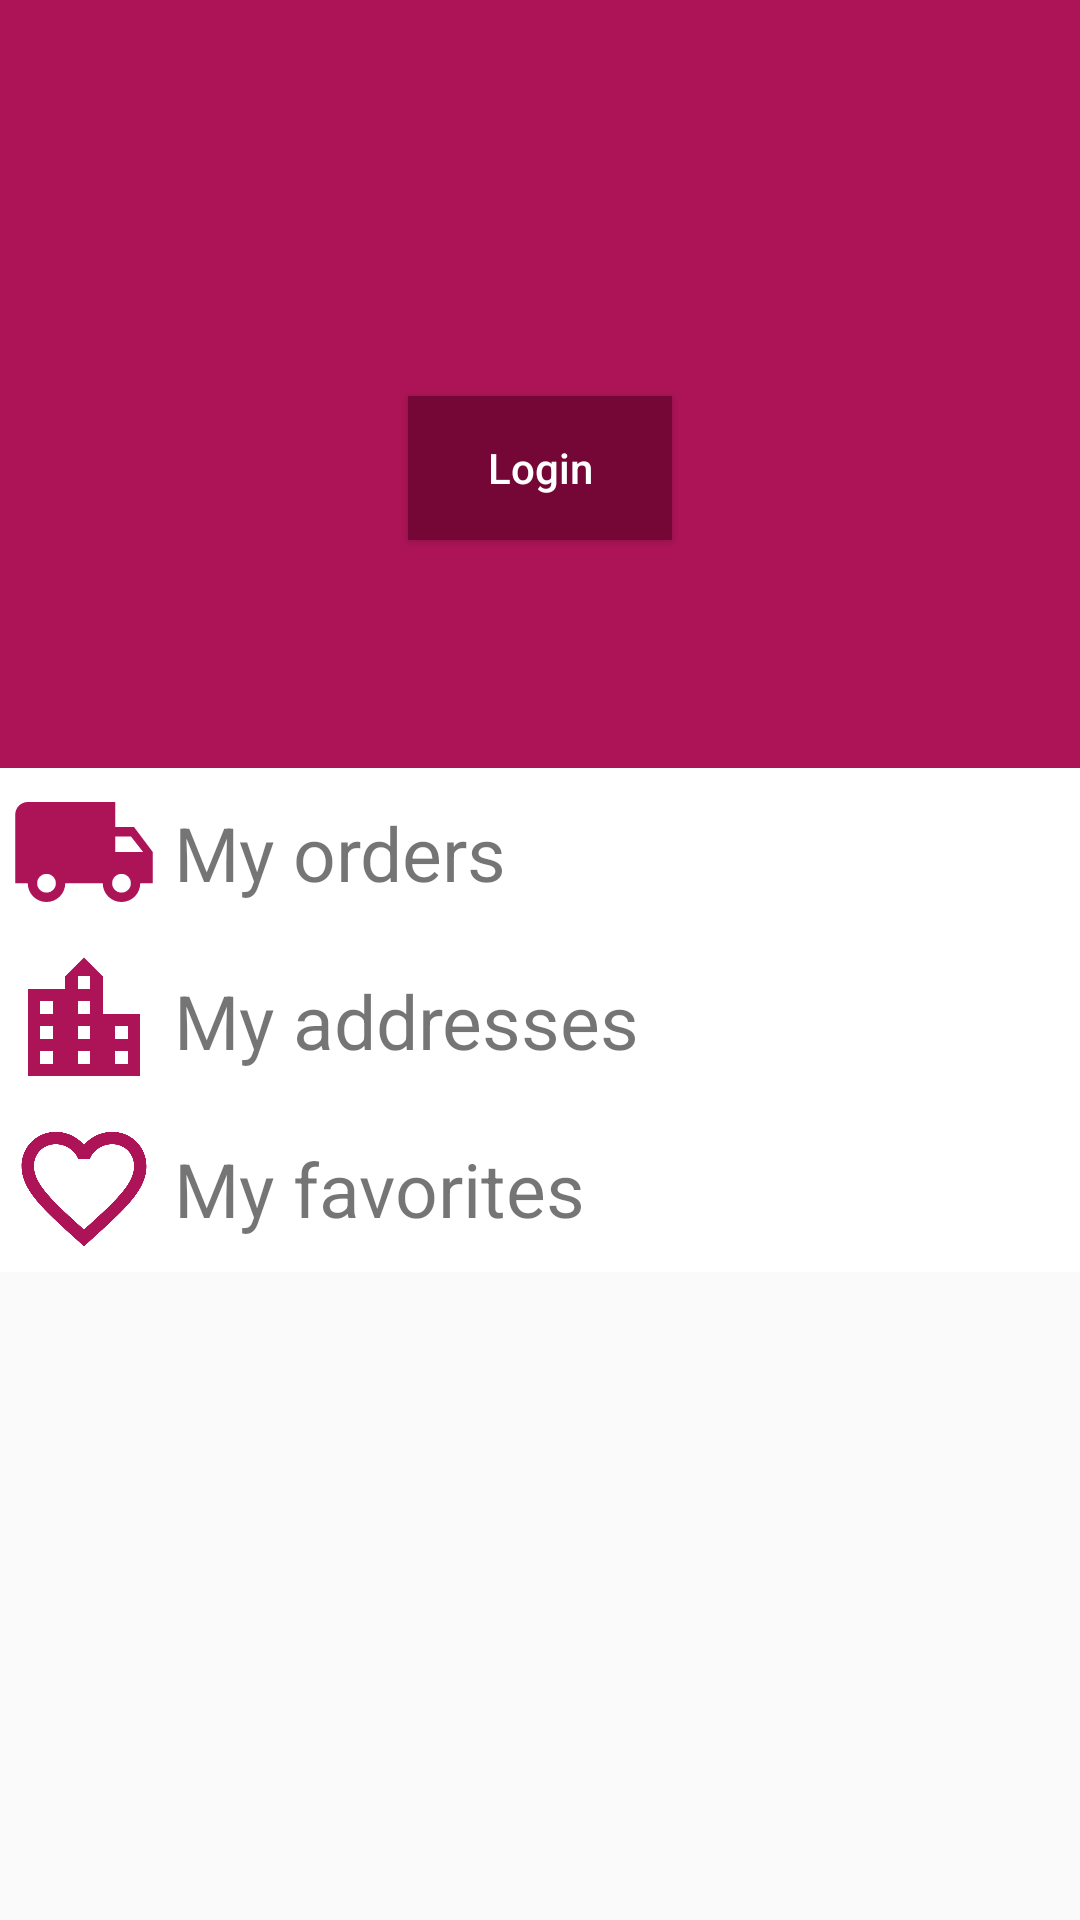

Where icons sit on this 1080px×1920px app screen, as [left=x1, top=y1, right=x2, bottom=y2]:
favorite border: [left=21, top=1132, right=147, bottom=1246]
local shipping: [left=15, top=802, right=153, bottom=902]
location city: [left=28, top=957, right=140, bottom=1076]
